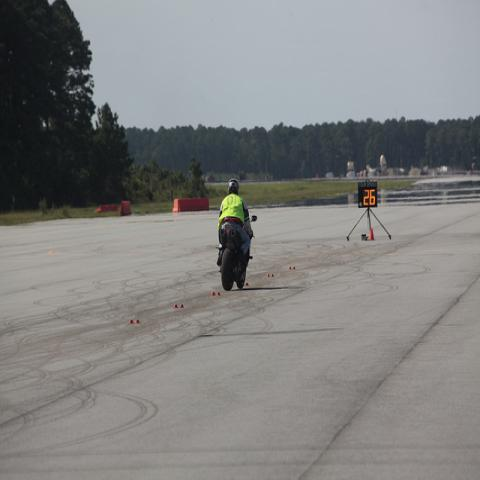motorcycle: (217, 228, 254, 294)
